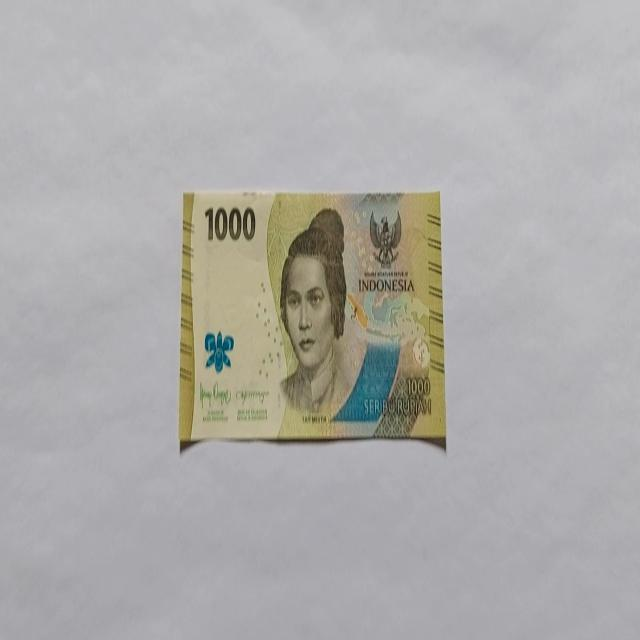seribu rupiah kertas: (178, 188, 446, 448)
